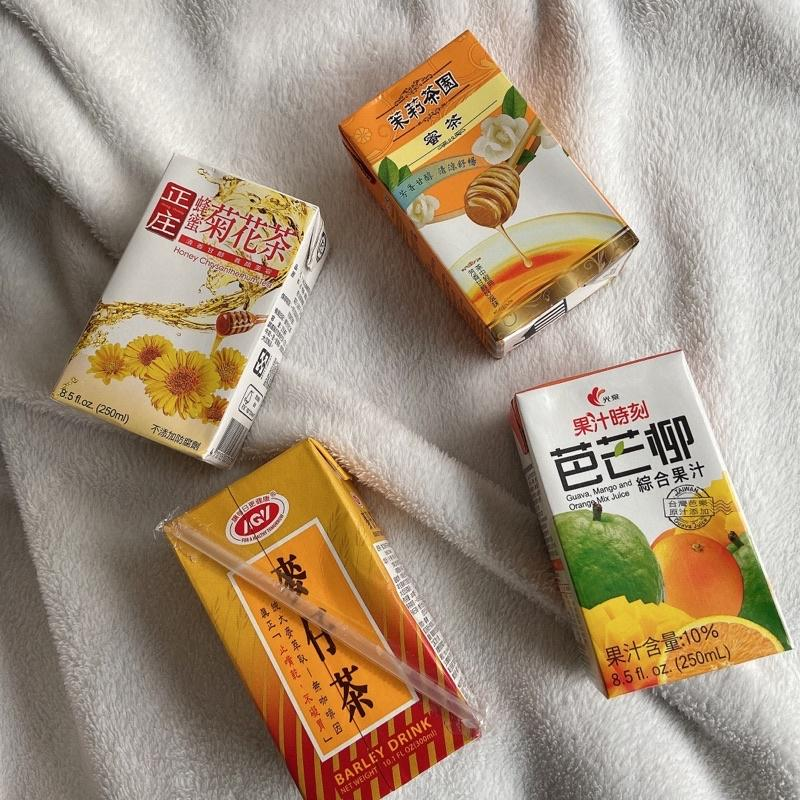cardboard: (157, 444, 484, 800), (509, 350, 792, 705), (350, 30, 646, 352), (46, 151, 333, 460)
